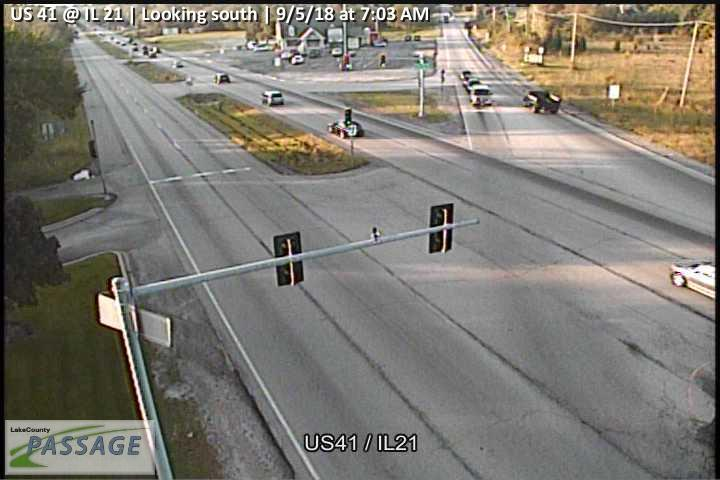SUV: (261, 89, 285, 108), (214, 70, 231, 85)
Sedan: (670, 259, 714, 298), (326, 120, 363, 138)
Truck: (524, 87, 561, 115), (470, 84, 492, 107)
